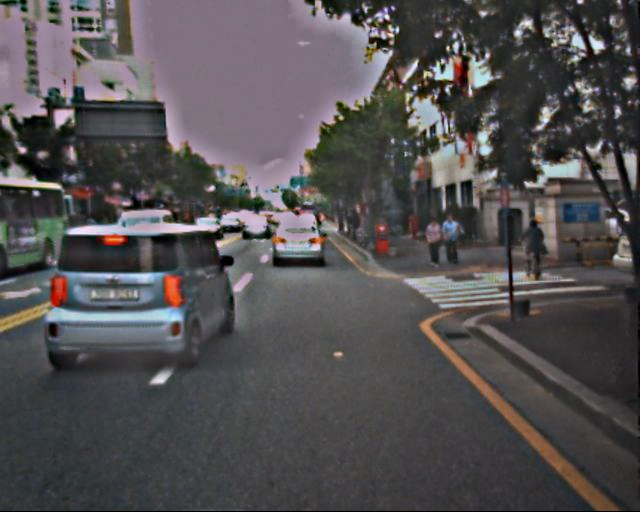person: (441, 216, 464, 273), (522, 219, 545, 274), (425, 219, 446, 270)
